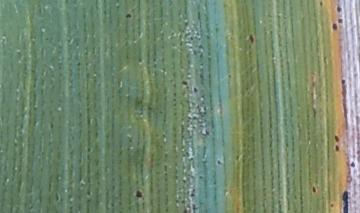tarspot: (340, 77, 349, 131), (340, 188, 352, 213), (133, 189, 145, 199), (247, 32, 255, 45), (48, 120, 55, 131), (332, 134, 340, 143), (335, 5, 343, 14), (331, 22, 338, 32), (336, 17, 344, 25), (215, 158, 222, 167), (311, 184, 317, 194), (192, 85, 198, 95), (124, 12, 132, 19), (349, 161, 356, 168), (333, 144, 340, 151), (317, 1, 324, 8), (180, 79, 188, 85), (328, 202, 334, 209), (226, 73, 232, 80)
